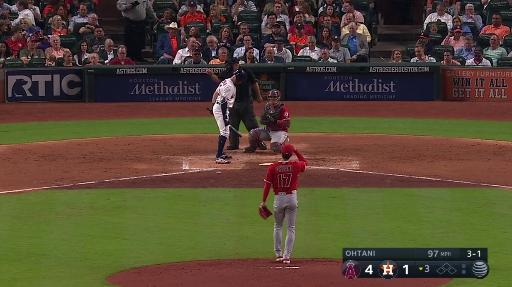pitcher: (258, 145, 309, 265)
